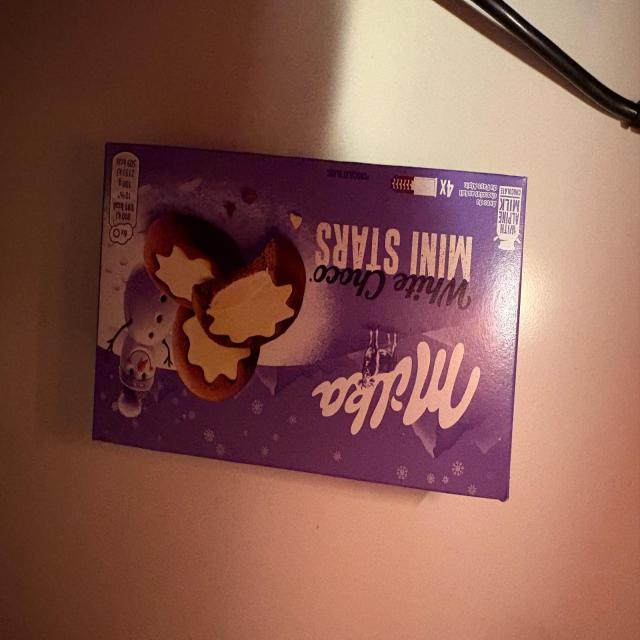good_package: (89, 141, 528, 506)
